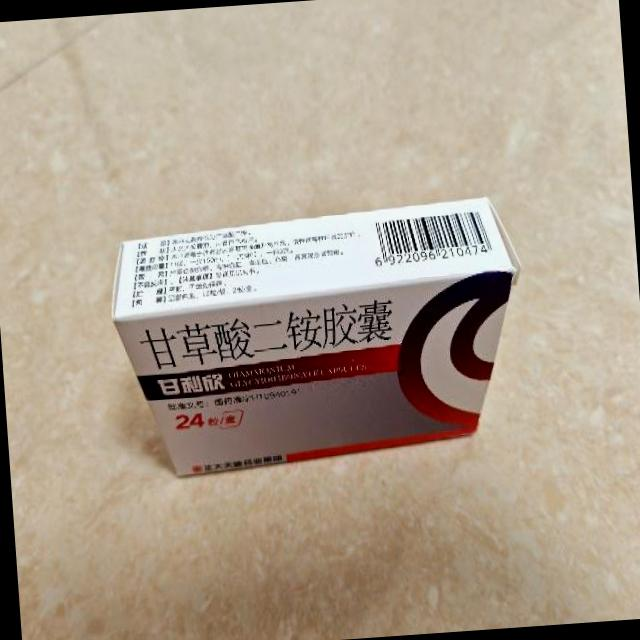box: (105, 194, 532, 480)
